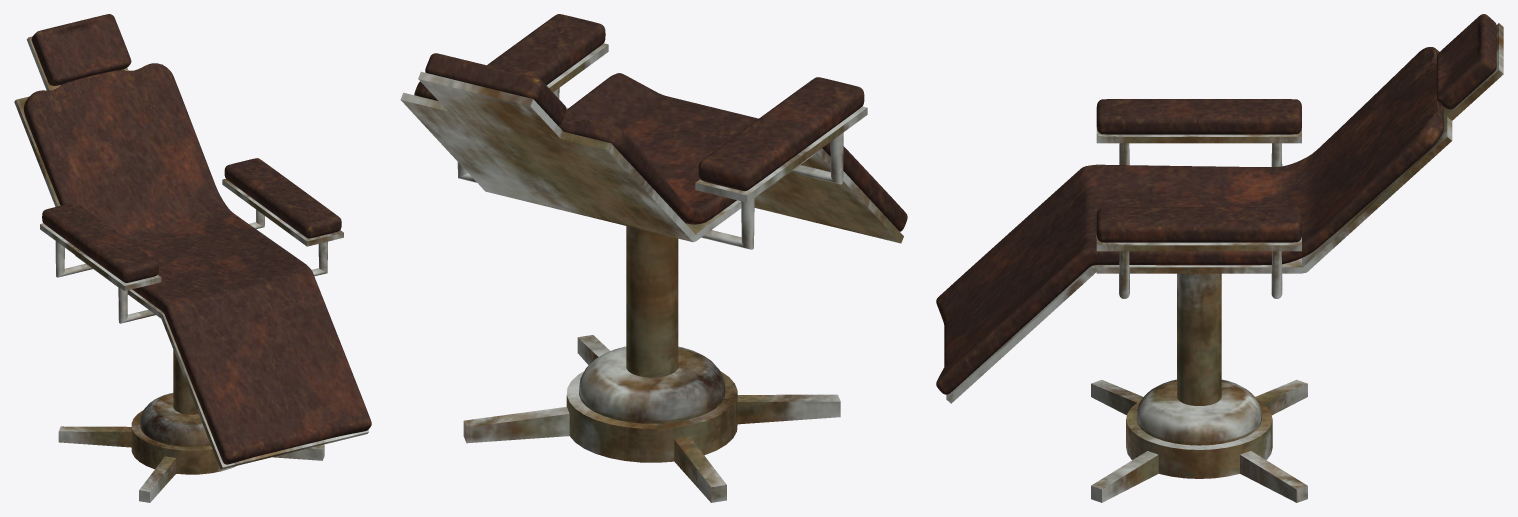
Rendered from Examination_chair.fbx.
3 renders of one model, left to right at view 1: azimuth 30°, elevation 25°; view 2: azimuth 150°, elevation 25°; view 3: azimuth 270°, elevation 25°, orthographic. The views are drawn at different scales.
Parts seen in each view (by area): view 1: Examination_chair.001; view 2: Examination_chair.001; view 3: Examination_chair.001.
Boxes of the visible parts, <box> form: Examination_chair.001: <box>14,14,371,502</box>; Examination_chair.001: <box>400,14,907,502</box>; Examination_chair.001: <box>936,14,1503,502</box>.
Bounding box in the file's own units: 114 × 169 × 211.
Materials: 2 (2 with a texture image).
